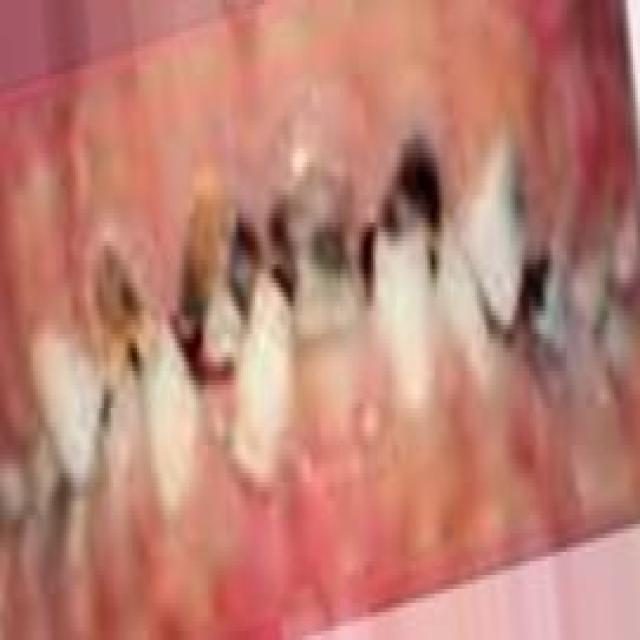caries: (356, 136, 451, 296), (174, 165, 252, 357), (267, 169, 353, 337), (86, 230, 161, 378), (502, 244, 570, 384)
